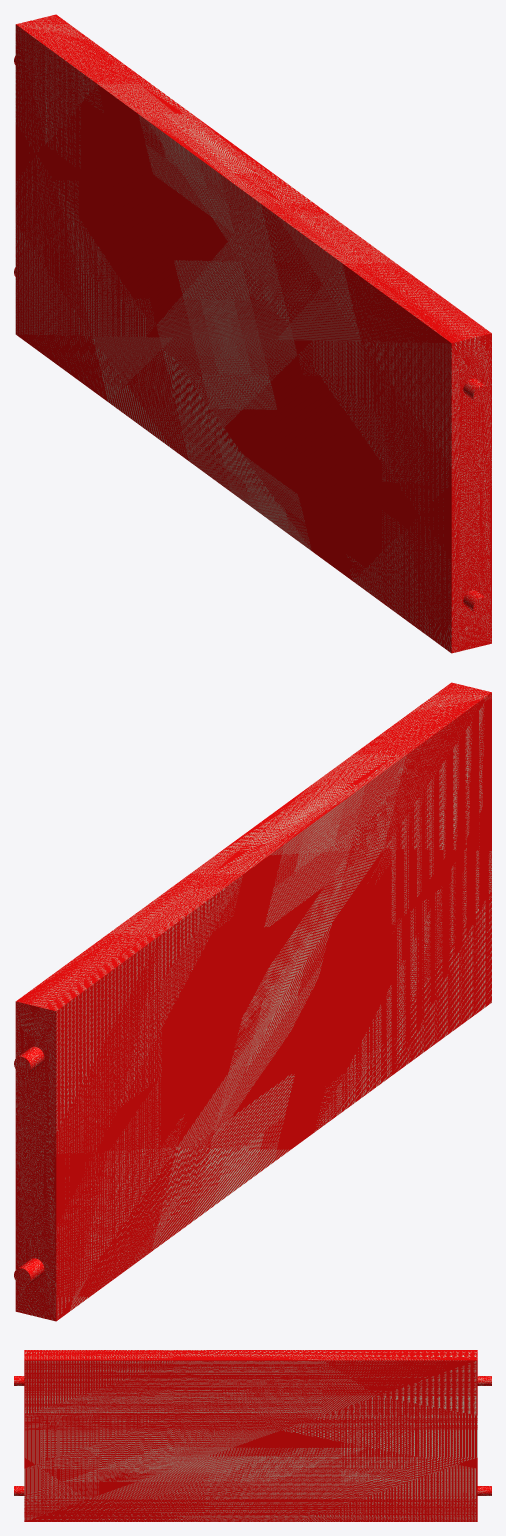
The model's file is original-68.obj.
The picture shows the model from 3 angles, top to bottom: view 1: azimuth 30°, elevation 25°; view 2: azimuth 150°, elevation 25°; view 3: azimuth 270°, elevation 25°; orthographic projection. The views are drawn at different scales.
Visible parts, largest first — view 1: Component_6_4/Component_6/mesh15/mesh15-geometry#mesh15-geometry; view 2: Component_6_4/Component_6/mesh15/mesh15-geometry#mesh15-geometry; view 3: Component_6_4/Component_6/mesh15/mesh15-geometry#mesh15-geometry.
Part boxes in pixels (x1,y1,x2,y2): Component_6_4/Component_6/mesh15/mesh15-geometry#mesh15-geometry: (14, 14, 491, 653); Component_6_4/Component_6/mesh15/mesh15-geometry#mesh15-geometry: (14, 682, 491, 1321); Component_6_4/Component_6/mesh15/mesh15-geometry#mesh15-geometry: (14, 1350, 491, 1521).
Size of the model in its own units: 0.0131 by 0.0964 by 0.2587.
